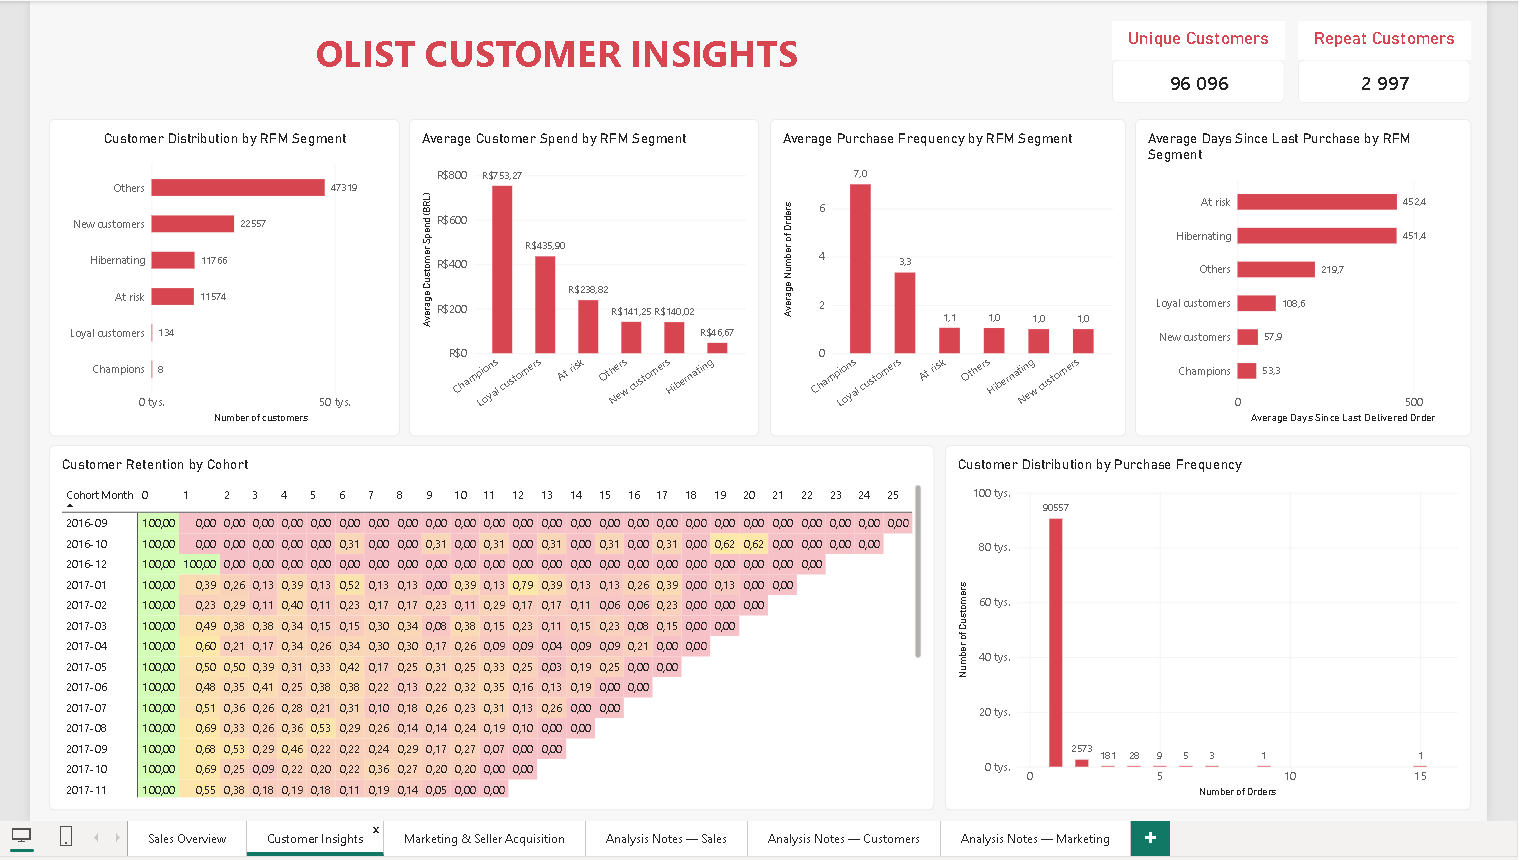

The dashboard page shown, as its layout file describes it:
{"tool":"powerbi","page":{"name":"Customer Insights","canvas":[1920,1080],"ordinal":1},"visuals":[{"type":"textbox","box":[376.7,35.6,723.1,93.5],"z":0},{"type":"cardVisual","title":"Unique Customers","fields":{"Data":["Customers.Unique_Customers_Tekst"]},"box":[1425.1,26.3,227.9,112],"z":1000},{"type":"cardVisual","title":"Repeat Customers","fields":{"Data":["Customer Overview.Repeat_Customers_Tekst"]},"box":[1670,26.3,227.9,112],"z":2000},{"type":"barChart","title":"Customer Distribution by RFM Segment","fields":{"Category":["RFM Segment Distribution.customer_label"],"Y":["Sum(RFM Segment Distribution.total_customers)"]},"box":[25,155.4,462.3,417.5],"z":3000},{"type":"clusteredColumnChart","title":"Average Customer Spend by RFM Segment","fields":{"Category":["RFM Customer Segments.customer_label"],"Y":["Avg(RFM Customer Segments.monetary)"]},"box":[499.2,155.4,461,417.5],"z":4000},{"type":"clusteredColumnChart","title":"Customer Distribution by Purchase Frequency","fields":{"Category":["RFM Customer Segments.frequency"],"Y":["Count(RFM Customer Segments.customer_unique_id)"]},"box":[1205.1,584.8,692.8,480.7],"z":5000},{"type":"pivotTable","title":"Customer Retention by Cohort","fields":{"Columns":["Customer Cohort Retention.months_since_cohort"],"Rows":["Customer Cohort Retention.cohort_month"],"Values":["Avg(Customer Cohort Retention.retention_rate)"]},"box":[25,584.8,1165.6,480.7],"z":6000},{"type":"clusteredBarChart","title":"Average Days Since Last Purchase by RFM Segment","fields":{"Category":["RFM Customer Segments.customer_label"],"Y":["Avg(RFM Customer Segments.recency)"]},"box":[1455.4,155.4,442.5,417.5],"z":7000},{"type":"clusteredColumnChart","title":"Average Purchase Frequency by RFM Segment","fields":{"Category":["RFM Customer Segments.customer_label"],"Y":["Avg(RFM Customer Segments.frequency)"]},"box":[974.6,155.4,468.9,417.5],"z":8000}]}

Visuals, with their boxes on the page's 1920x1080 design canvas (x1, y1, x2, y2). These are canvas units, not pixel positions in the 1520x860 screenshot, which may show the page scaled, cropped or inside an application window:
textbox: x1=377 y1=36 x2=1100 y2=129
"Unique Customers" cardVisual: x1=1425 y1=26 x2=1653 y2=138
"Repeat Customers" cardVisual: x1=1670 y1=26 x2=1898 y2=138
"Customer Distribution by RFM Segment" barChart: x1=25 y1=155 x2=487 y2=573
"Average Customer Spend by RFM Segment" clusteredColumnChart: x1=499 y1=155 x2=960 y2=573
"Customer Distribution by Purchase Frequency" clusteredColumnChart: x1=1205 y1=585 x2=1898 y2=1066
"Customer Retention by Cohort" pivotTable: x1=25 y1=585 x2=1191 y2=1066
"Average Days Since Last Purchase by RFM Segment" clusteredBarChart: x1=1455 y1=155 x2=1898 y2=573
"Average Purchase Frequency by RFM Segment" clusteredColumnChart: x1=975 y1=155 x2=1444 y2=573
